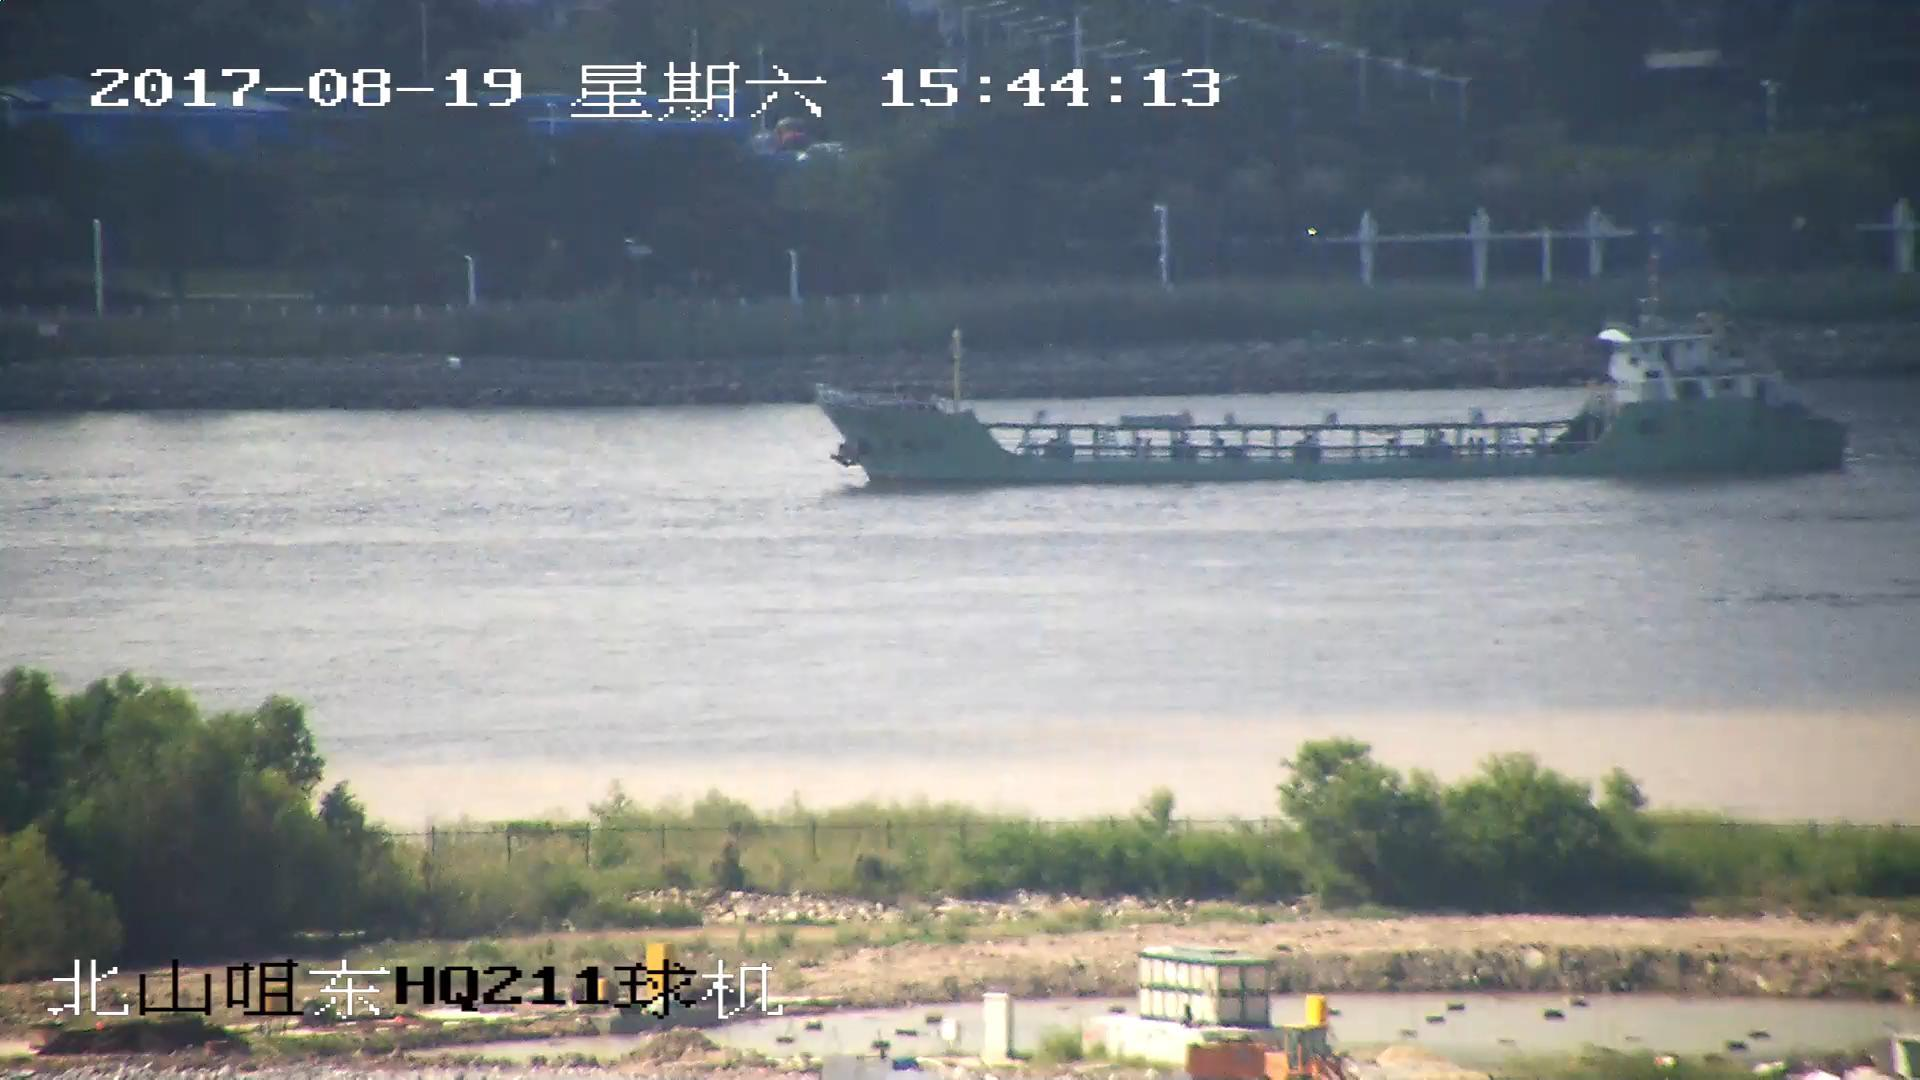Ship: (819, 282, 1849, 487)
